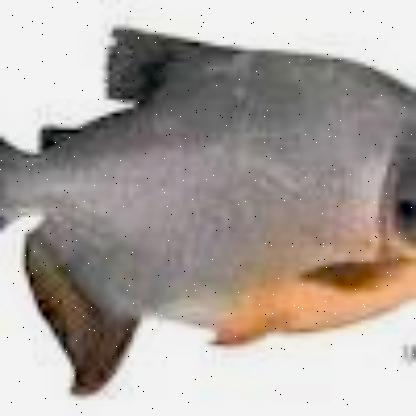ikan-pacu: (0, 33, 412, 377)
